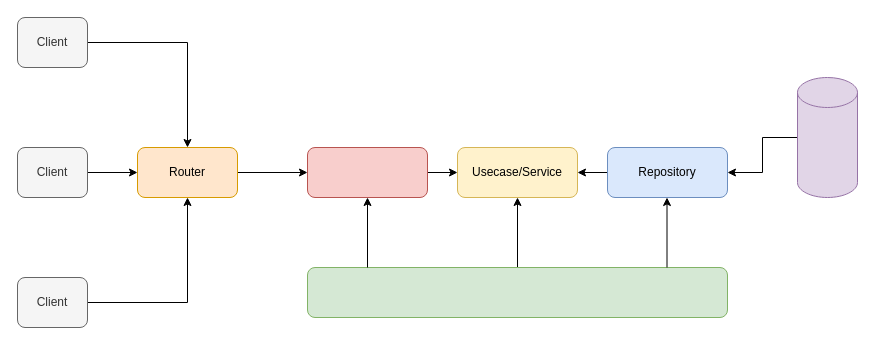
The diagram is 875 pixels wide and 345 high, and some of its shapes have lost their labels. The shapes that lost their labels are listed below. From the top down, each one's box as (x1, y1, x2, y2) in pixels, then its label:
(796, 76, 858, 198): DB
(306, 146, 428, 198): Controller/Handler
(306, 266, 728, 318): Domain/Model/Entity
